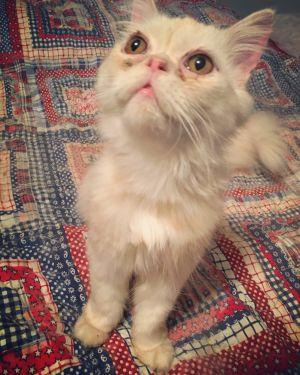persian: (88, 1, 281, 159)
